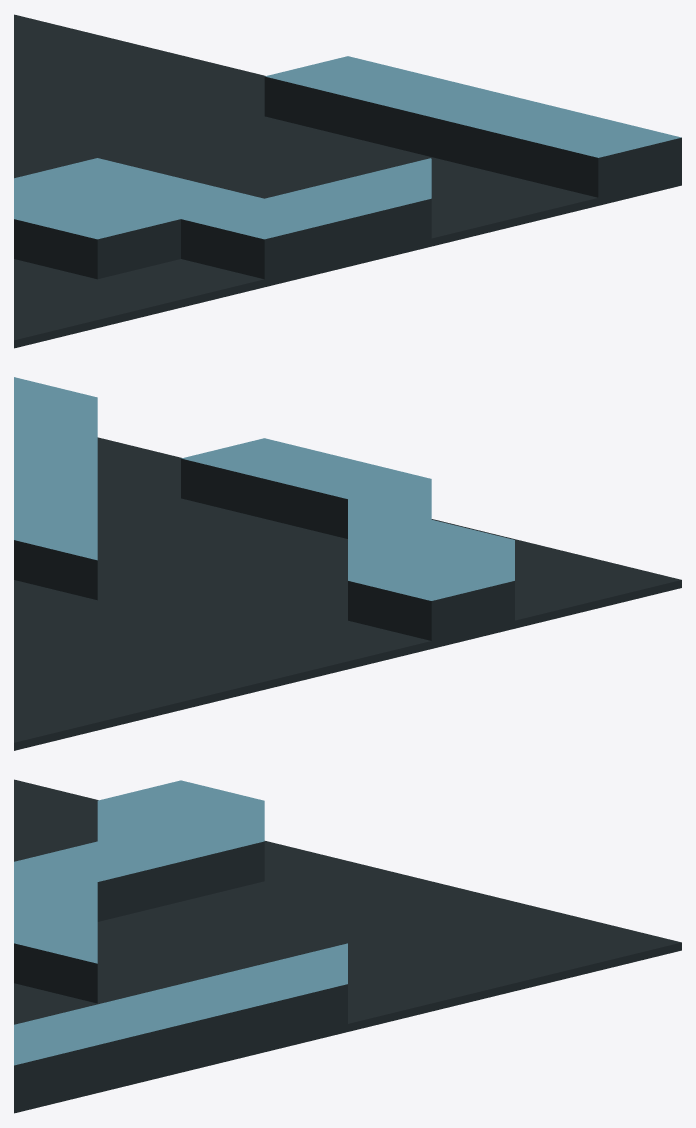
File: OrePort.fbx
3 views of the same model, one above another, from view 1: azimuth 30°, elevation 25°; view 2: azimuth 150°, elevation 25°; view 3: azimuth 270°, elevation 25° (orthographic).
Parts seen in each view (by area): view 1: Cylinder; view 2: Cylinder; view 3: Cylinder.
Part boxes in pixels (x1=…): Cylinder: x1=14, y1=14, x2=681, y2=348; Cylinder: x1=14, y1=377, x2=681, y2=750; Cylinder: x1=14, y1=779, x2=681, y2=1113.
Bounding box in the file's own units: 0.866 × 0.0594 × 0.75.
